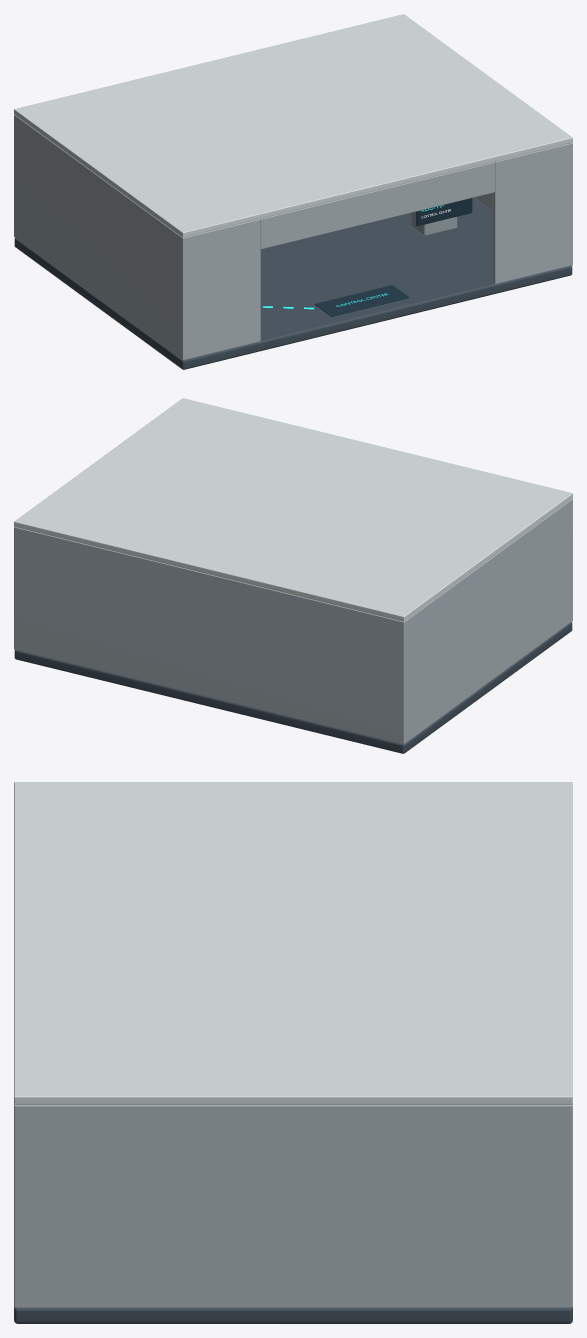
Rendered from Room01_Control_Room.fbx.
3 renders of one model, top to bottom at view 1: azimuth 30°, elevation 25°; view 2: azimuth 150°, elevation 25°; view 3: azimuth 270°, elevation 25°, orthographic. The views are drawn at different scales.
Visible parts, largest first — view 1: Ceiling, Floor | 12 x 9 m, Left wall, Front wall left, Front wall right, Entrance lintel, Welcome mat, Room number sign, Kiosk pedestal; view 2: Ceiling, Rear wall, Left wall, Floor | 12 x 9 m; view 3: Ceiling, Right wall, Floor | 12 x 9 m, Rear wall, Front wall right.
Part boxes in pixels (<box>): Ceiling: <box>14,14,572,237</box>; Floor | 12 x 9 m: <box>14,197,572,369</box>; Left wall: <box>15,116,181,357</box>; Front wall left: <box>180,219,260,360</box>; Front wall right: <box>492,143,572,283</box>; Entrance lintel: <box>260,162,494,249</box>; Welcome mat: <box>315,285,409,316</box>; Room number sign: <box>416,198,472,226</box>; Kiosk pedestal: <box>411,211,457,236</box>; Ceiling: <box>14,398,572,621</box>; Rear wall: <box>14,527,406,744</box>; Left wall: <box>405,499,571,742</box>; Floor | 12 x 9 m: <box>14,622,572,753</box>; Ceiling: <box>14,782,572,1105</box>; Right wall: <box>18,1105,568,1307</box>; Floor | 12 x 9 m: <box>14,1307,572,1323</box>; Rear wall: <box>564,1105,572,1307</box>; Front wall right: <box>14,1105,22,1307</box>.
Size of the model in its own units: 1200 by 406 by 900.
